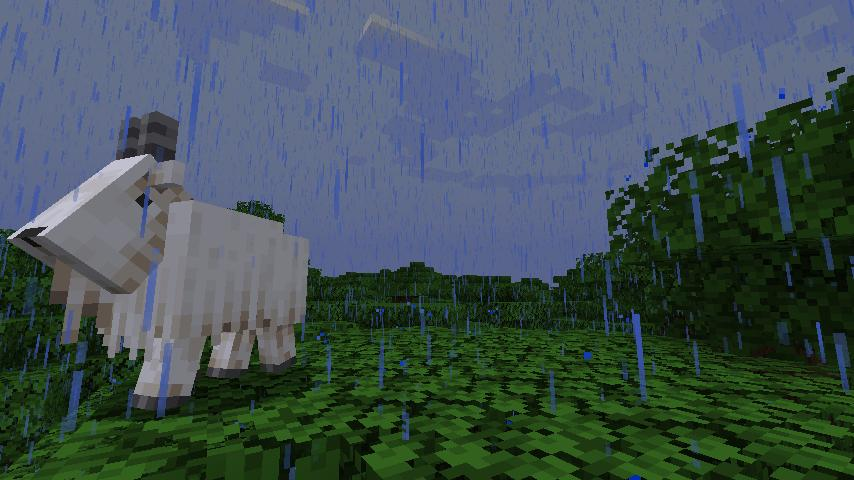goat: (10, 106, 313, 414)
